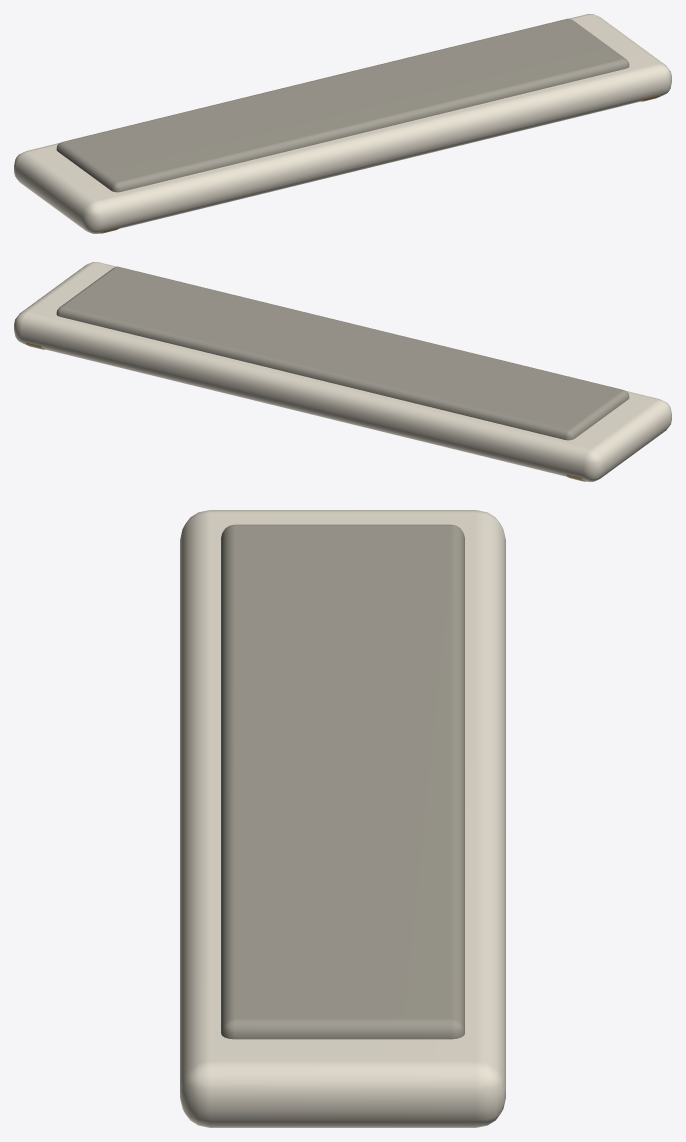
File: ceiling_light.glb
The picture shows the model from 3 angles, top to bottom: view 1: azimuth 30°, elevation 25°; view 2: azimuth 150°, elevation 25°; view 3: azimuth 270°, elevation 25°; orthographic projection. The views are drawn at different scales.
Visible parts, largest first — view 1: Ceiling mounting plate, Ivory housing; view 2: Ceiling mounting plate, Ivory housing; view 3: Ceiling mounting plate, Ivory housing.
Part boxes in pixels (bbox=[...]): Ceiling mounting plate: bbox=[56, 18, 629, 192]; Ivory housing: bbox=[14, 14, 671, 233]; Ceiling mounting plate: bbox=[56, 266, 629, 440]; Ivory housing: bbox=[14, 262, 671, 481]; Ceiling mounting plate: bbox=[221, 524, 464, 1039]; Ivory housing: bbox=[180, 510, 505, 1127].
Size of the model in its own units: 1 by 0.073 by 0.24.
